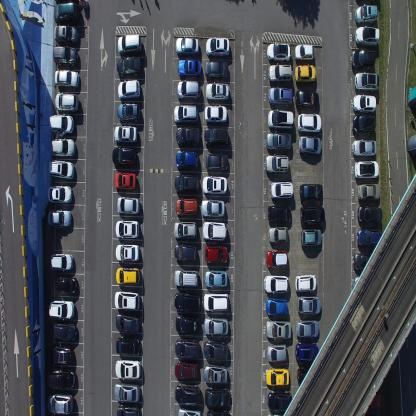car: (45, 368, 76, 390), (116, 54, 141, 78), (174, 337, 200, 360), (267, 108, 294, 130), (47, 393, 74, 415), (202, 219, 227, 242), (204, 386, 230, 408), (175, 384, 201, 406), (356, 228, 382, 250), (354, 70, 380, 92), (114, 289, 140, 311), (265, 131, 292, 152), (48, 159, 75, 180), (205, 36, 230, 58), (350, 48, 375, 70), (300, 204, 325, 226), (115, 312, 140, 334), (117, 32, 142, 54), (53, 44, 78, 66), (54, 92, 79, 114), (174, 291, 200, 312), (353, 275, 379, 296), (114, 381, 140, 402), (54, 2, 81, 22), (46, 346, 73, 366), (268, 390, 292, 412), (203, 174, 227, 196), (204, 126, 228, 148), (176, 126, 200, 148), (176, 313, 200, 335), (352, 113, 376, 135), (355, 25, 379, 47), (295, 88, 319, 110), (176, 79, 201, 100), (267, 63, 292, 84), (115, 358, 140, 379), (116, 335, 141, 356), (113, 124, 138, 145), (265, 319, 291, 339), (263, 274, 289, 294), (203, 316, 229, 336), (203, 340, 229, 360), (111, 146, 137, 166), (50, 138, 76, 158), (47, 184, 73, 204), (353, 253, 380, 272), (48, 299, 75, 318), (175, 149, 198, 171), (354, 3, 377, 25), (298, 134, 321, 156), (113, 170, 136, 192), (295, 341, 319, 362), (204, 104, 228, 125), (205, 59, 229, 80), (175, 35, 199, 56), (173, 104, 197, 125), (297, 112, 321, 133), (268, 86, 292, 107), (117, 79, 141, 100), (265, 366, 290, 386), (360, 389, 385, 409), (115, 219, 140, 239), (54, 24, 79, 44), (54, 68, 79, 88), (49, 114, 74, 134), (47, 208, 72, 228), (203, 292, 229, 311), (357, 205, 383, 224), (294, 63, 316, 85), (204, 244, 228, 264), (294, 272, 318, 292), (297, 294, 321, 314), (201, 198, 225, 218), (205, 151, 229, 171), (205, 80, 229, 100), (178, 58, 202, 78), (174, 173, 198, 193), (173, 220, 197, 240), (174, 268, 198, 288), (352, 93, 376, 113), (267, 42, 291, 62), (116, 102, 140, 122), (174, 360, 199, 379), (354, 160, 379, 179), (352, 138, 377, 157), (264, 154, 289, 173), (115, 243, 140, 262), (296, 317, 318, 338), (266, 249, 288, 270), (297, 366, 320, 386), (174, 243, 197, 263), (175, 197, 199, 216), (268, 205, 292, 224), (299, 183, 323, 202), (116, 196, 140, 215), (50, 252, 74, 271), (53, 323, 77, 342), (115, 266, 140, 284), (300, 228, 322, 248), (357, 183, 380, 202), (270, 180, 293, 199), (204, 270, 228, 288), (264, 297, 288, 315), (203, 364, 227, 382), (56, 275, 78, 294), (267, 342, 287, 362), (294, 42, 314, 62), (268, 225, 288, 244), (116, 403, 141, 415), (178, 407, 201, 415), (206, 408, 230, 415)
